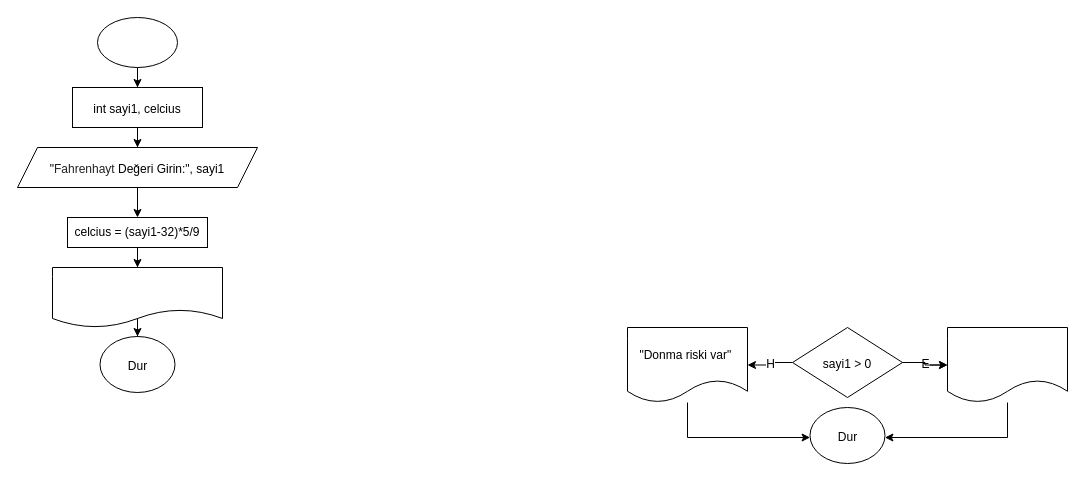
This 1085x481 diagram has some shape labels left out. Each missing label, with the centre of its shape:
"Donma riski yok ": the point at 1007,364
"Girdiğiniz sayının Celcius değeri: ", celcius: the point at 137,297
Başla: the point at 137,42
